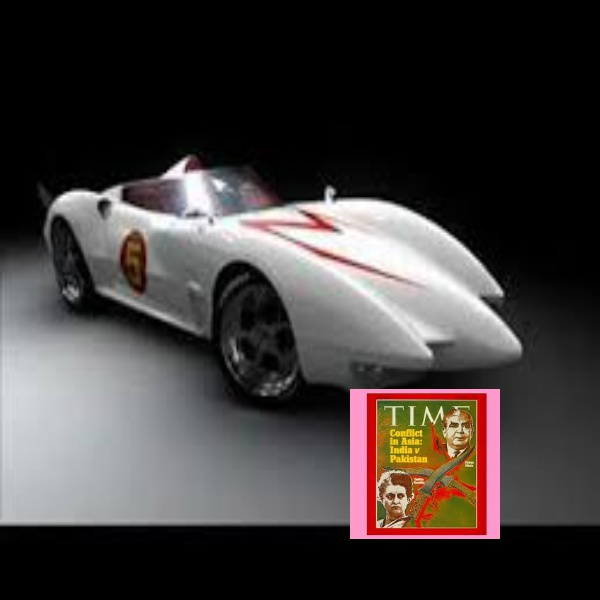time_cover: (349, 384, 510, 542)
